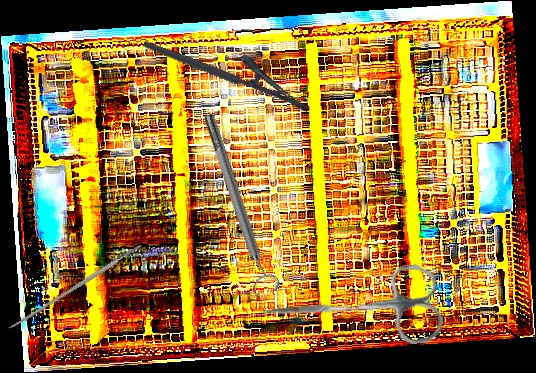Fixation Ring: (195, 109, 283, 299)
Iris Scissors: (257, 262, 445, 355)
Needle Holder: (142, 17, 319, 114)
Scalpel Handle: (7, 242, 145, 332)
